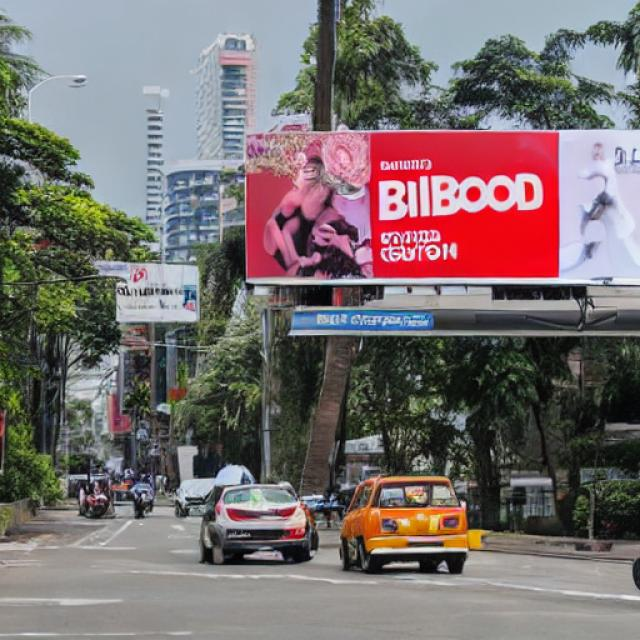Billboard: (240, 126, 640, 288)
